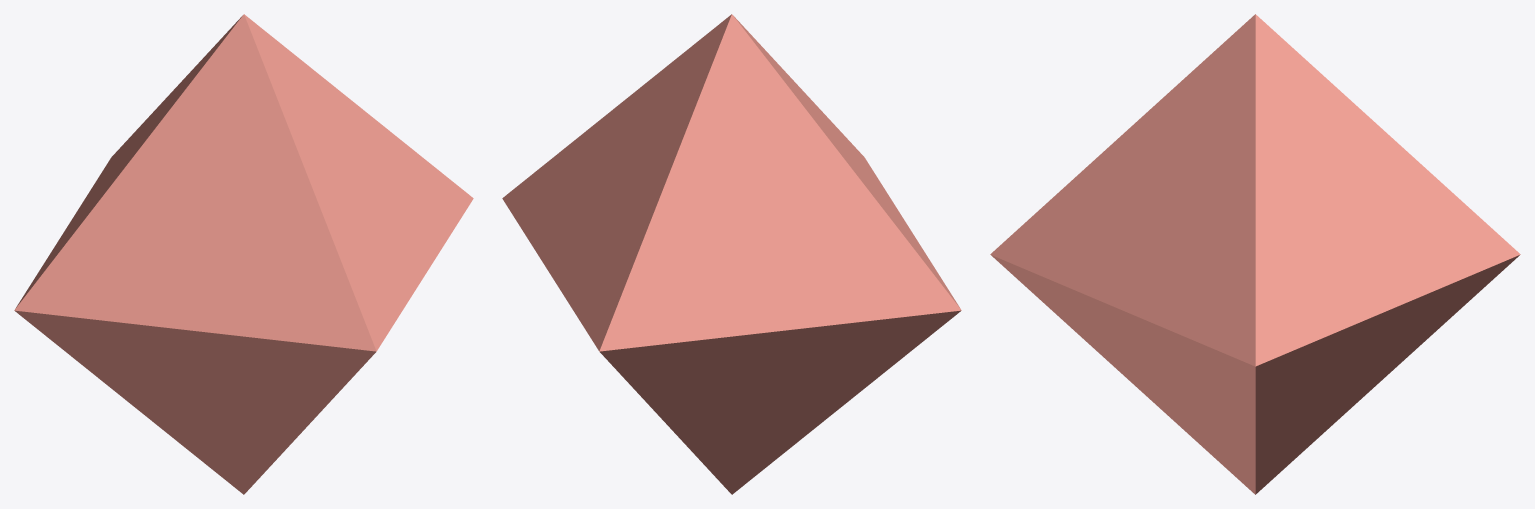
File: MysteryBox.glb
The picture shows the model from 3 angles, left to right: view 1: azimuth 30°, elevation 25°; view 2: azimuth 150°, elevation 25°; view 3: azimuth 270°, elevation 25°; orthographic projection.
Parts seen in each view (by area): view 1: worldSphere; view 2: worldSphere; view 3: worldSphere.
Part boxes in pixels (<box>): worldSphere: <box>14,14,473,494</box>; worldSphere: <box>502,14,961,494</box>; worldSphere: <box>990,14,1520,494</box>.
Size of the model in its own units: 17.45 by 17.45 by 17.45.
